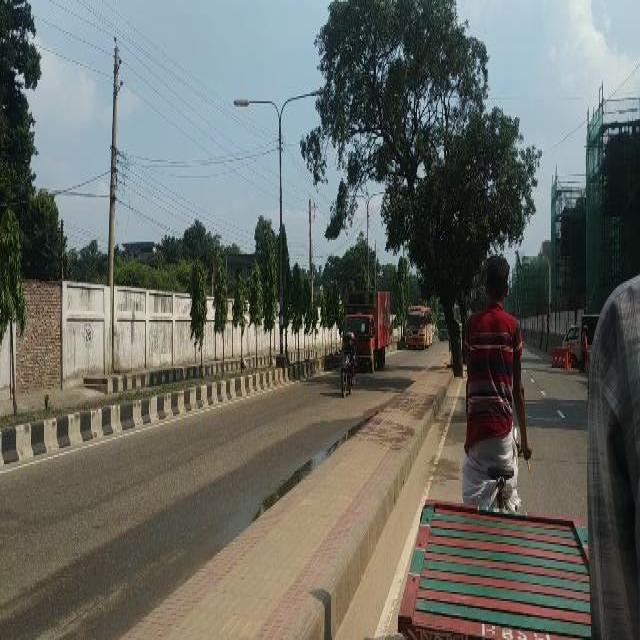10: (338, 346, 354, 396)
11: (341, 289, 391, 358)
20: (396, 493, 590, 638)
Truck: (404, 303, 432, 348)
